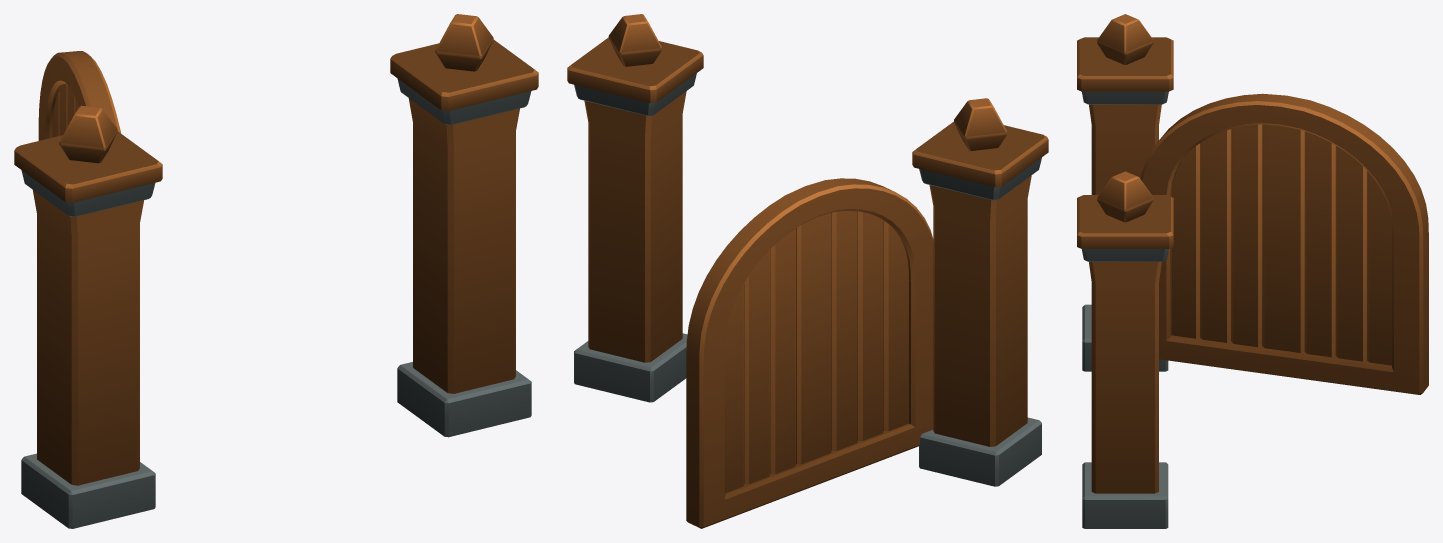
The model's file is Door-1-2.fbx.
3 views of the same model, side by side, from view 1: azimuth 30°, elevation 25°; view 2: azimuth 150°, elevation 25°; view 3: azimuth 270°, elevation 25° (orthographic). The views are drawn at different scales.
Parts seen in each view (by area): view 1: Door-1-2; view 2: Door-1-2; view 3: Door-1-2.
Boxes of the visible parts, x1,y1,x2,y2 form: Door-1-2: (14,14,538,528); Door-1-2: (567,14,1048,528); Door-1-2: (1077,14,1428,528).
Bounding box in the file's own units: 242 × 190 × 181.
